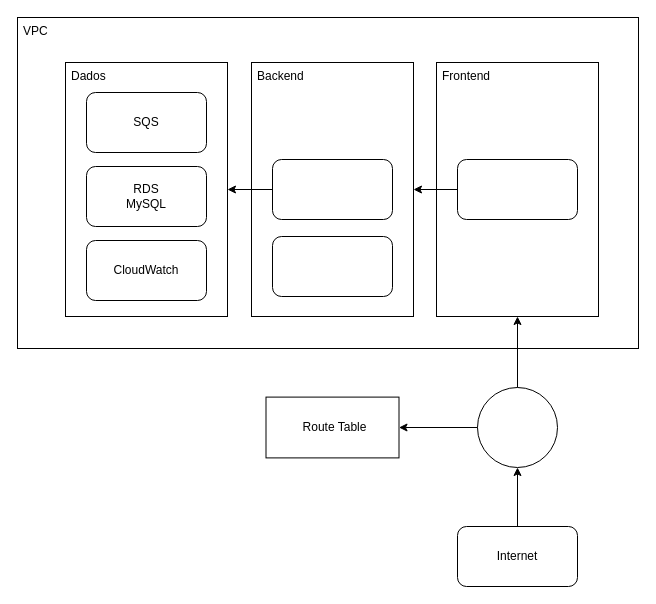
The diagram is 656 pixels wide and 604 high, and some of its shapes have lost their labels. The shapes that lost their labels are listed below. From the top down, each one's centre as x and y in pixels, then its label:
At pixel 332 189: "EC2 Backend".
At pixel 517 189: "EC2 Frontend".
At pixel 332 266: "EC2 Backend (APIs Externas)".
At pixel 517 427: "Internet Gateway".
